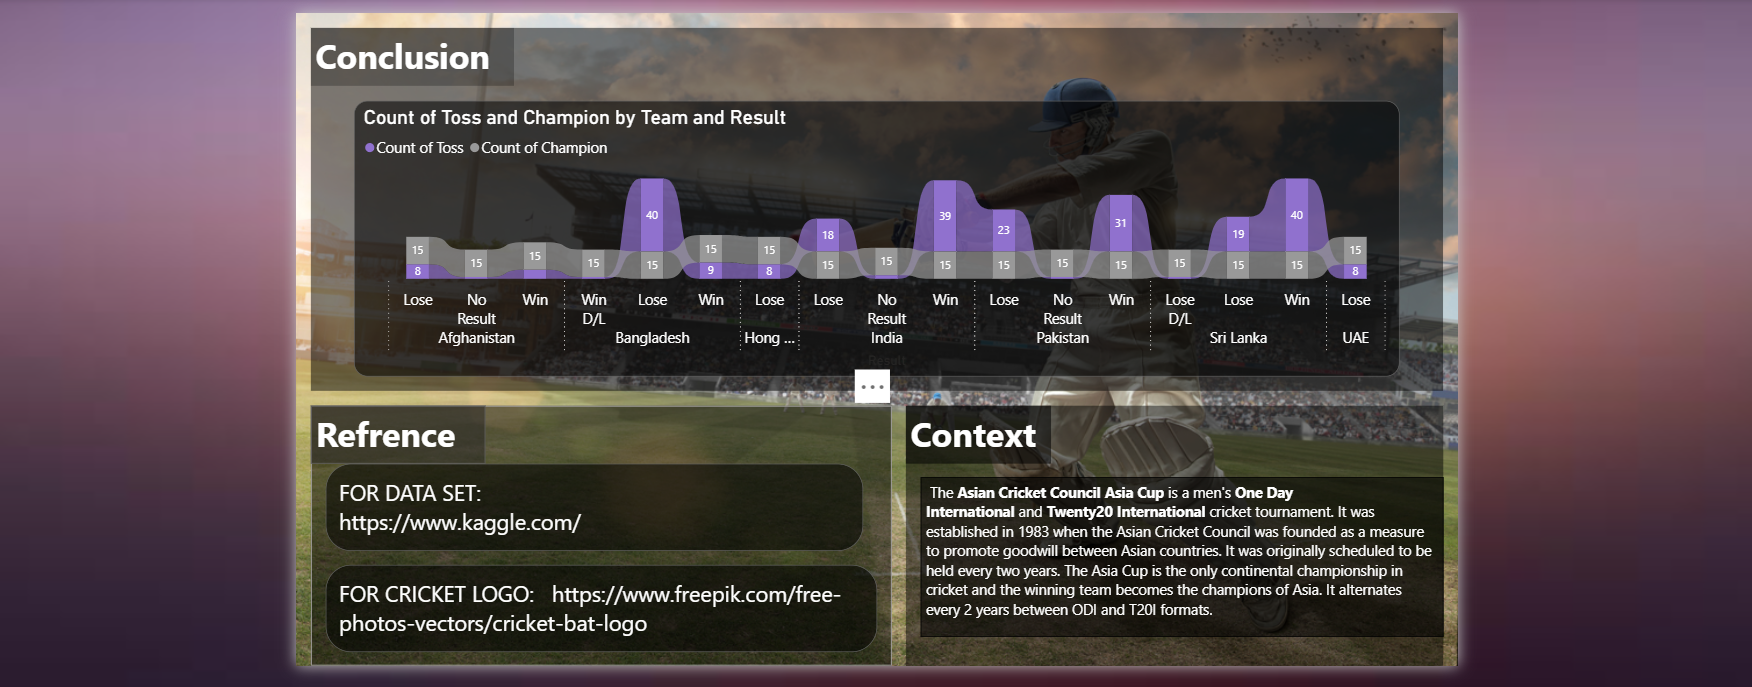

Layout of this report page (visuals, bound fields, positions):
{"tool":"powerbi","page":{"name":"Page 2","canvas":[1280,720],"ordinal":1},"visuals":[{"type":"textbox","box":[16,16,1248,400],"z":0},{"type":"ribbonChart","title":"Count of Toss and   Champion by Team and Result","fields":{"Category":["asiacup.Team","asiacup.Result"],"Y":["CountNonNull(asiacup.Toss)","CountNonNull(champion.Champion)"]},"box":[64,96,1152,304],"z":1000},{"type":"textbox","box":[16,16,224,64],"z":2000},{"type":"textbox","box":[16,432,640,288],"z":3000},{"type":"textbox","box":[16,432,192,64],"z":4000},{"type":"textbox","box":[32,496,592,96],"z":5000},{"type":"textbox","box":[32,608,608,96],"z":6000},{"type":"textbox","box":[672,432,592,288],"z":7000},{"type":"textbox","box":[672,432,160,64],"z":8000},{"type":"textbox","box":[688,512,576,176],"z":9000}]}

Visuals, with their boxes in screenshot pixels (x1, y1, x2, y2):
textbox: pyautogui.locateOnScreen(307, 24, 1442, 388)
"Count of Toss and   Champion by Team and Result" ribbonChart: pyautogui.locateOnScreen(350, 96, 1399, 373)
textbox: pyautogui.locateOnScreen(307, 24, 510, 82)
textbox: pyautogui.locateOnScreen(307, 402, 889, 664)
textbox: pyautogui.locateOnScreen(307, 402, 481, 461)
textbox: pyautogui.locateOnScreen(321, 461, 860, 548)
textbox: pyautogui.locateOnScreen(321, 563, 875, 650)
textbox: pyautogui.locateOnScreen(904, 402, 1442, 664)
textbox: pyautogui.locateOnScreen(904, 402, 1049, 461)
textbox: pyautogui.locateOnScreen(918, 475, 1442, 635)
